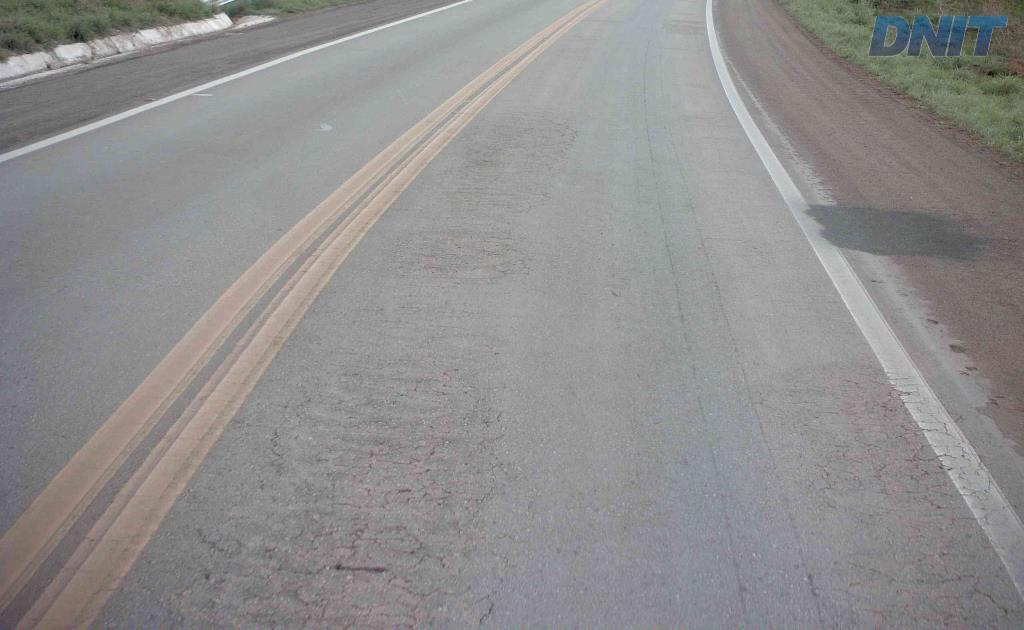crack: (238, 574, 356, 629), (256, 543, 326, 579), (234, 603, 312, 629), (328, 555, 389, 576)
